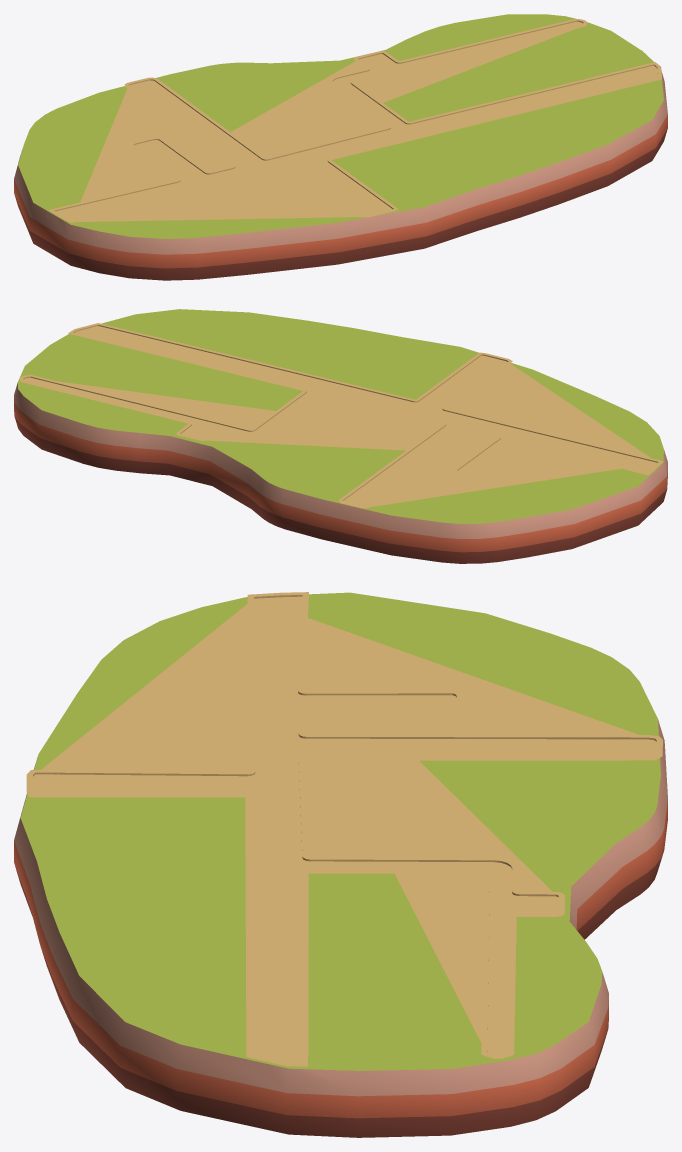
Rendered from island2.fbx.
3 renders of one model, top to bottom at view 1: azimuth 30°, elevation 25°; view 2: azimuth 150°, elevation 25°; view 3: azimuth 270°, elevation 25°, orthographic. The views are drawn at different scales.
Parts seen in each view (by area): view 1: Island; view 2: Island; view 3: Island.
Part boxes in pixels (left/top/right/bottom): Island: left=14, top=14, right=667, bottom=280; Island: left=14, top=309, right=667, bottom=563; Island: left=14, top=592, right=667, bottom=1137.
Size of the model in its own units: 4.82 by 0.3237 by 2.75.
